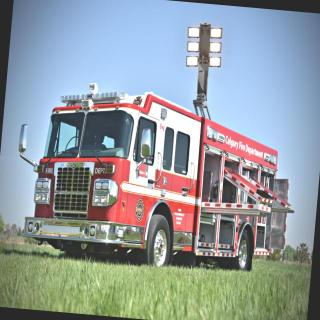Fire_truck: (1, 25, 320, 315)
